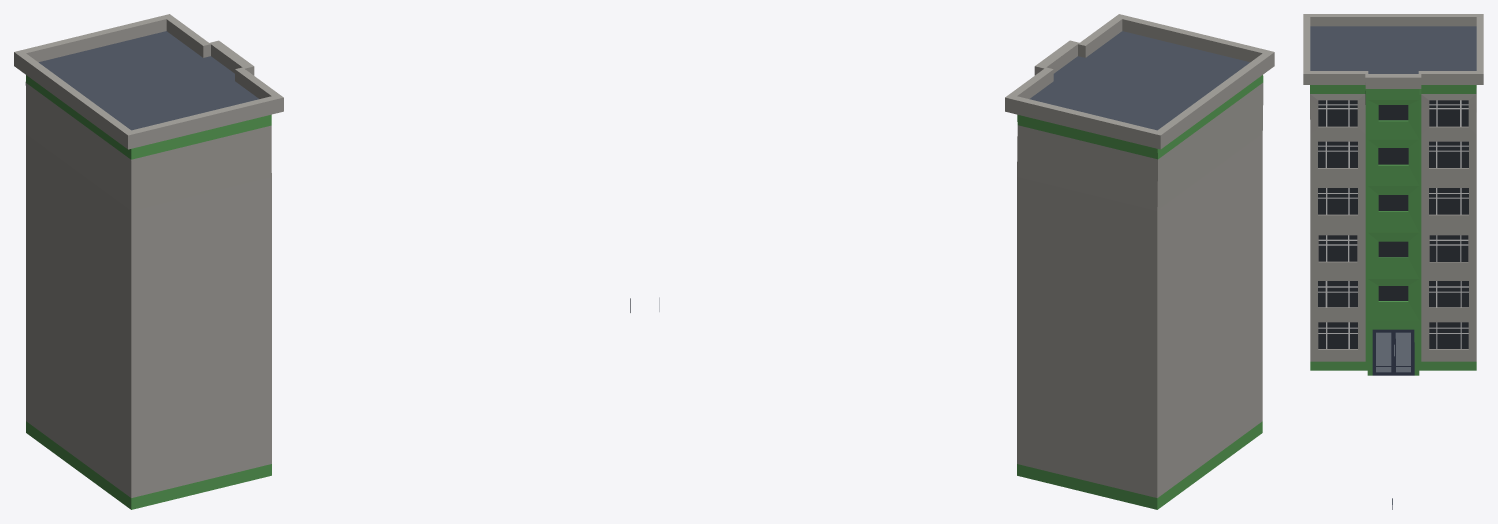
The model's file is Building_PanelBig_Green.fbx.
3 views of the same model, side by side, from view 1: azimuth 30°, elevation 25°; view 2: azimuth 150°, elevation 25°; view 3: azimuth 270°, elevation 25° (orthographic). The views are drawn at different scales.
Visible parts, largest first — view 1: Cube; view 2: Cube; view 3: Cube.
Part boxes in pixels (bbox=[...]): Cube: bbox=[14, 14, 630, 509]; Cube: bbox=[659, 14, 1274, 509]; Cube: bbox=[1303, 14, 1483, 509].
Bounding box in the file's own units: 2544 × 1651 × 900.
